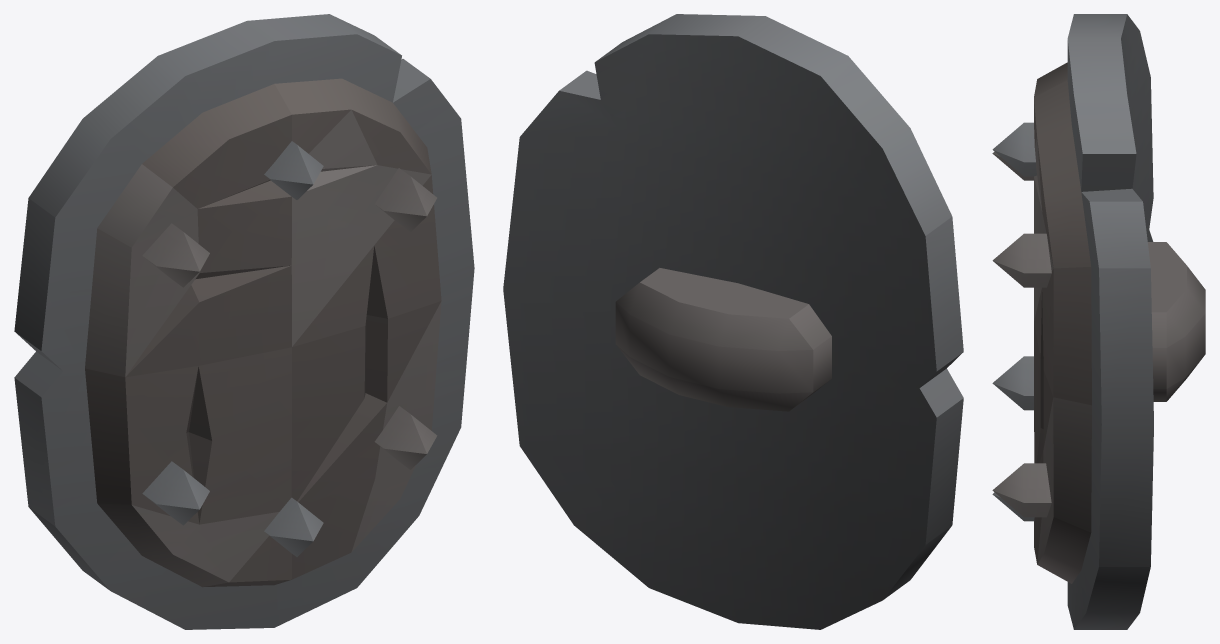
Rendered from Skeleton_Shield_Large_B.glb.
3 renders of one model, left to right at view 1: azimuth 30°, elevation 25°; view 2: azimuth 150°, elevation 25°; view 3: azimuth 270°, elevation 25°, orthographic. The views are drawn at different scales.
Visible parts, largest first — view 1: Skeleton_Shield_Large_B; view 2: Skeleton_Shield_Large_B; view 3: Skeleton_Shield_Large_B.
Boxes of the visible parts, x1,y1,x2,y2 form: Skeleton_Shield_Large_B: (14,14,474,629); Skeleton_Shield_Large_B: (503,14,963,629); Skeleton_Shield_Large_B: (992,14,1205,629).
Bounding box in the file's own units: 0.8771 × 1.13 × 0.387.
Materials: 1 (1 with a texture image).
